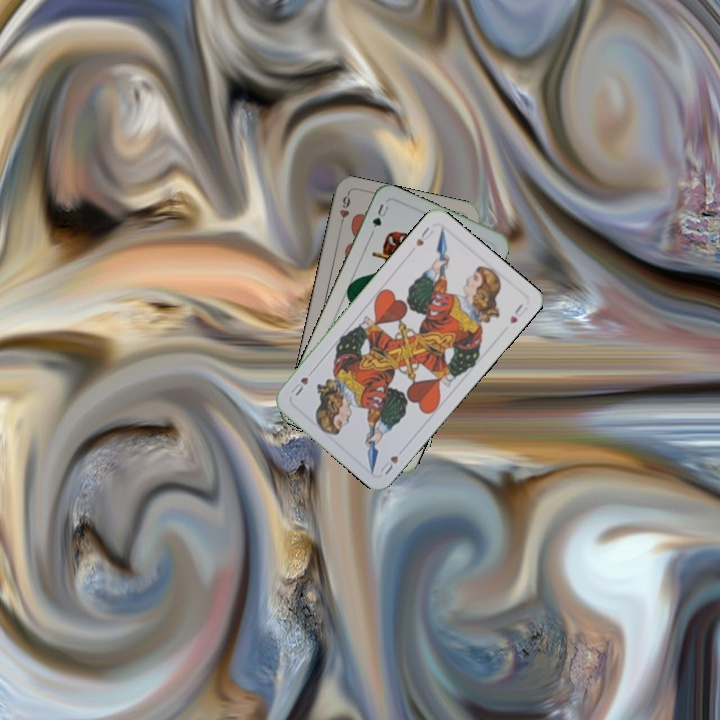GU: (368, 200, 391, 230)
H9: (335, 190, 353, 230)
HU: (375, 451, 401, 478), (412, 223, 436, 249)
